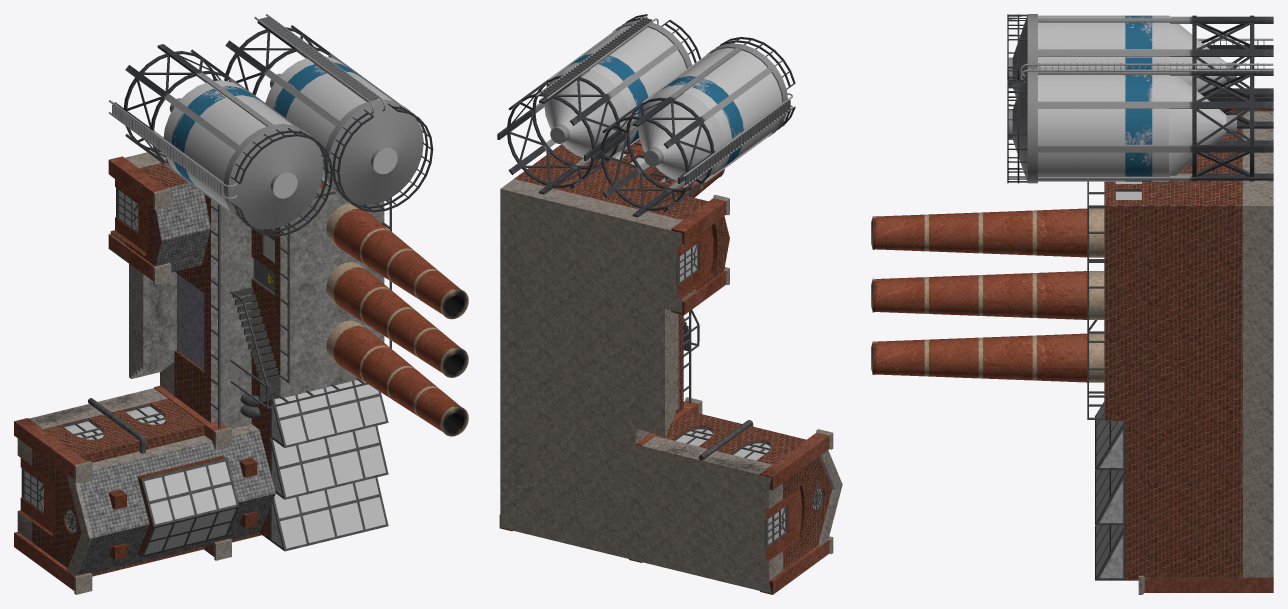
File: factory.obj
The picture shows the model from 3 angles, left to right: view 1: azimuth 30°, elevation 25°; view 2: azimuth 150°, elevation 25°; view 3: azimuth 270°, elevation 25°; orthographic projection. The views are drawn at different scales.
Visible parts, largest first — view 1: Cylinder.006_Cylinder.009; view 2: Cylinder.006_Cylinder.009; view 3: Cylinder.006_Cylinder.009.
Boxes of the visible parts, <box> form: Cylinder.006_Cylinder.009: <box>14,14,468,594</box>; Cylinder.006_Cylinder.009: <box>497,14,842,594</box>; Cylinder.006_Cylinder.009: <box>871,14,1273,594</box>.
Bounding box in the file's own units: 0.5489 × 0.8403 × 0.6066.
2 materials, 2 textured.
